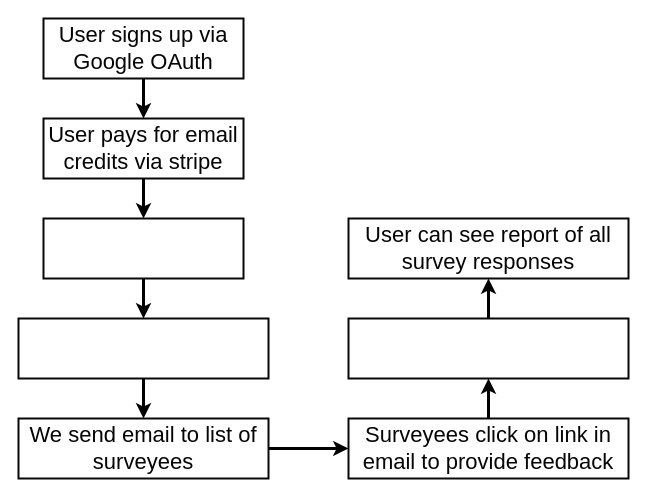
The diagram is 646 pixels wide and 496 high, and some of its shapes have lost their labels. The shapes that lost their labels are listed below. From the top down, each one's box as (x1, y1, x2, y2) in pixels, then its label:
(42, 217, 244, 279): User creates a new 'campaign'
(17, 317, 269, 379): User enters list of emails to send survey to
(347, 317, 629, 379): We tabulate feedback
